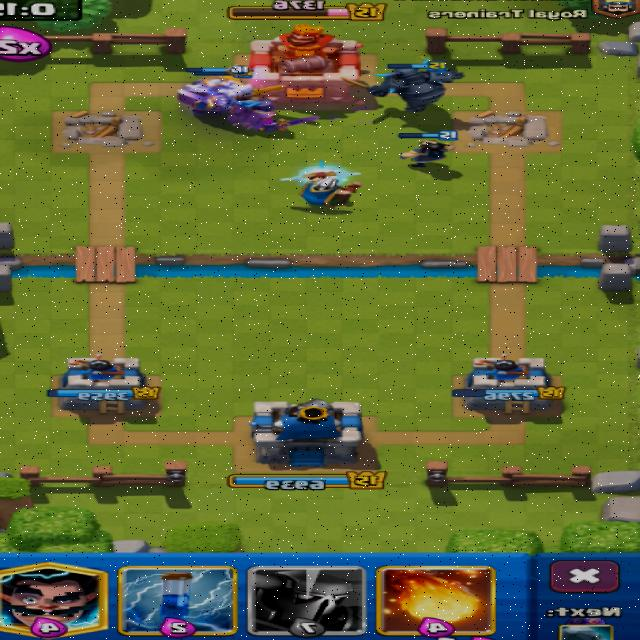Enemy-KingTower-Activated: (251, 22, 361, 108)
Player-ElectroWizard: (400, 131, 456, 167)
Player-KingTower-Activated: (252, 399, 364, 467)
Player-MagicArcher: (282, 160, 362, 205)
Player-PEKKA: (343, 57, 464, 112)
Player-PrincessTower: (49, 355, 161, 414), (455, 355, 564, 413)
Player-RoyalGhost-Evo: (178, 76, 253, 114)
Player-RoyalGhost-Minion: (229, 99, 317, 132)
